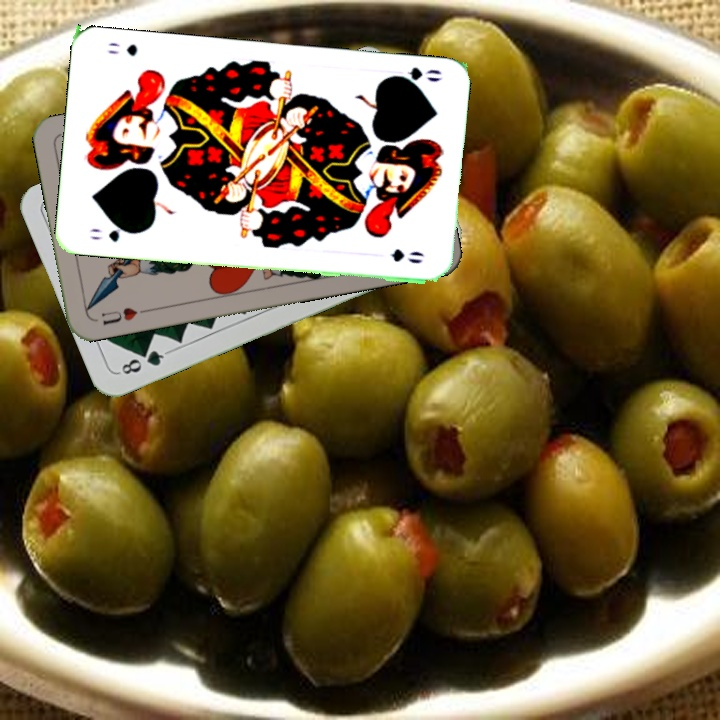G8: (115, 346, 171, 377)
GO: (385, 63, 444, 89), (86, 222, 139, 244)
HU: (97, 303, 150, 328)
